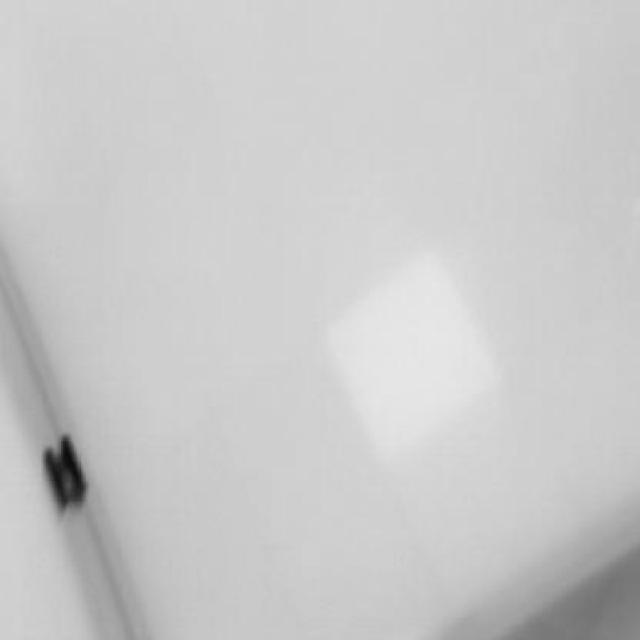hotspot: (314, 242, 514, 468)
